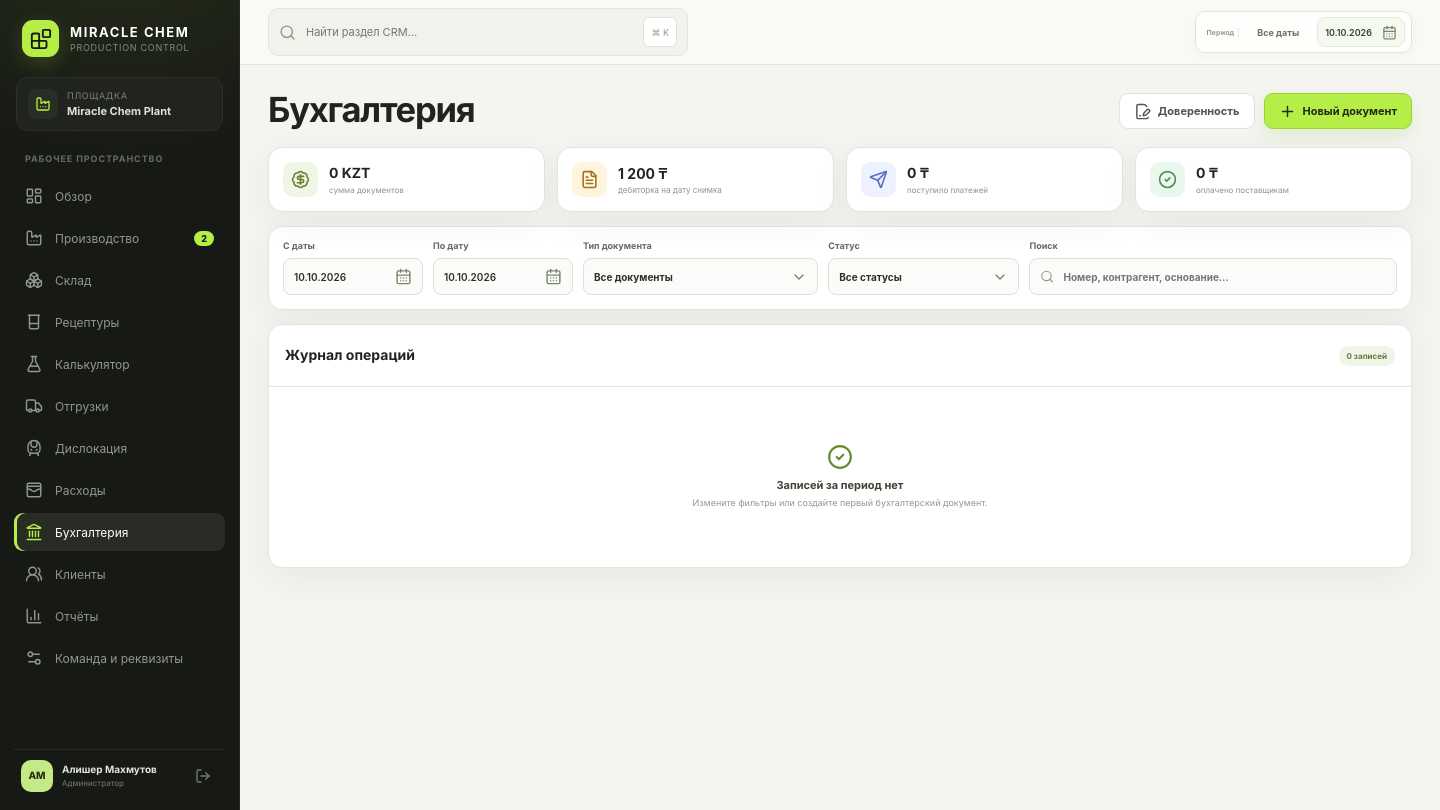
Test: Miracle Chem app shell › lists imported payments with accounting documents and keeps their details read-only
The width and height of the screenshot is (1440, 810).
Expected: the heading "Бухгалтерия" is shown, 268,93 -> 475,129
What coordinates should you click on to do the following:
click the button "Все даты"
I would click on:
 (1278, 32)
Its box is 1247,17 -> 1309,47.
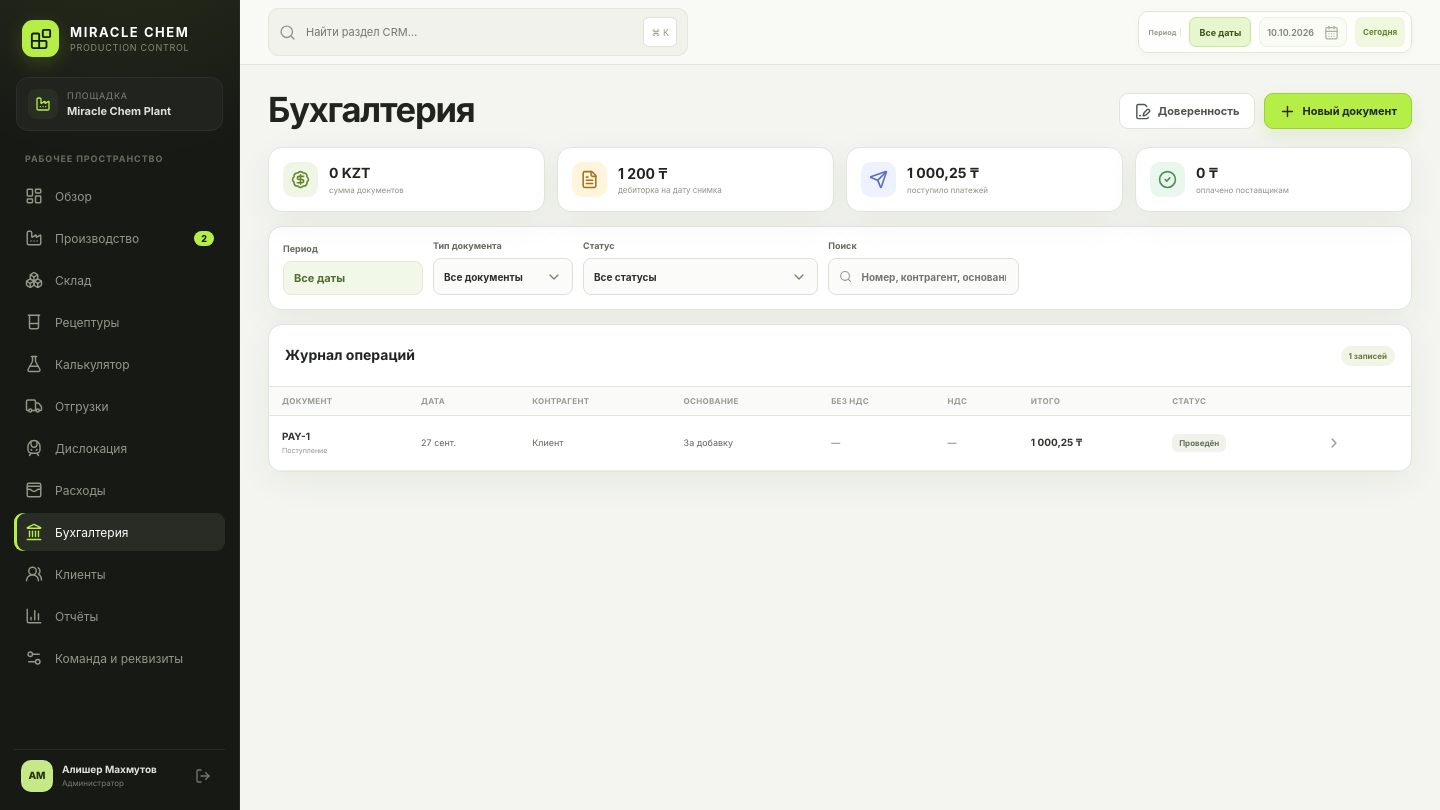
Expected: the heading "Журнал операций" is shown, 285,347 -> 415,364
Expected: the text "PAY-1" is shown, 282,431 -> 310,443
What coordinates should you click on to do the following:
click the button named "Открыть платёж PAY-1"
I would click on:
 (1334, 443)
Its box is 1318,427 -> 1350,459.
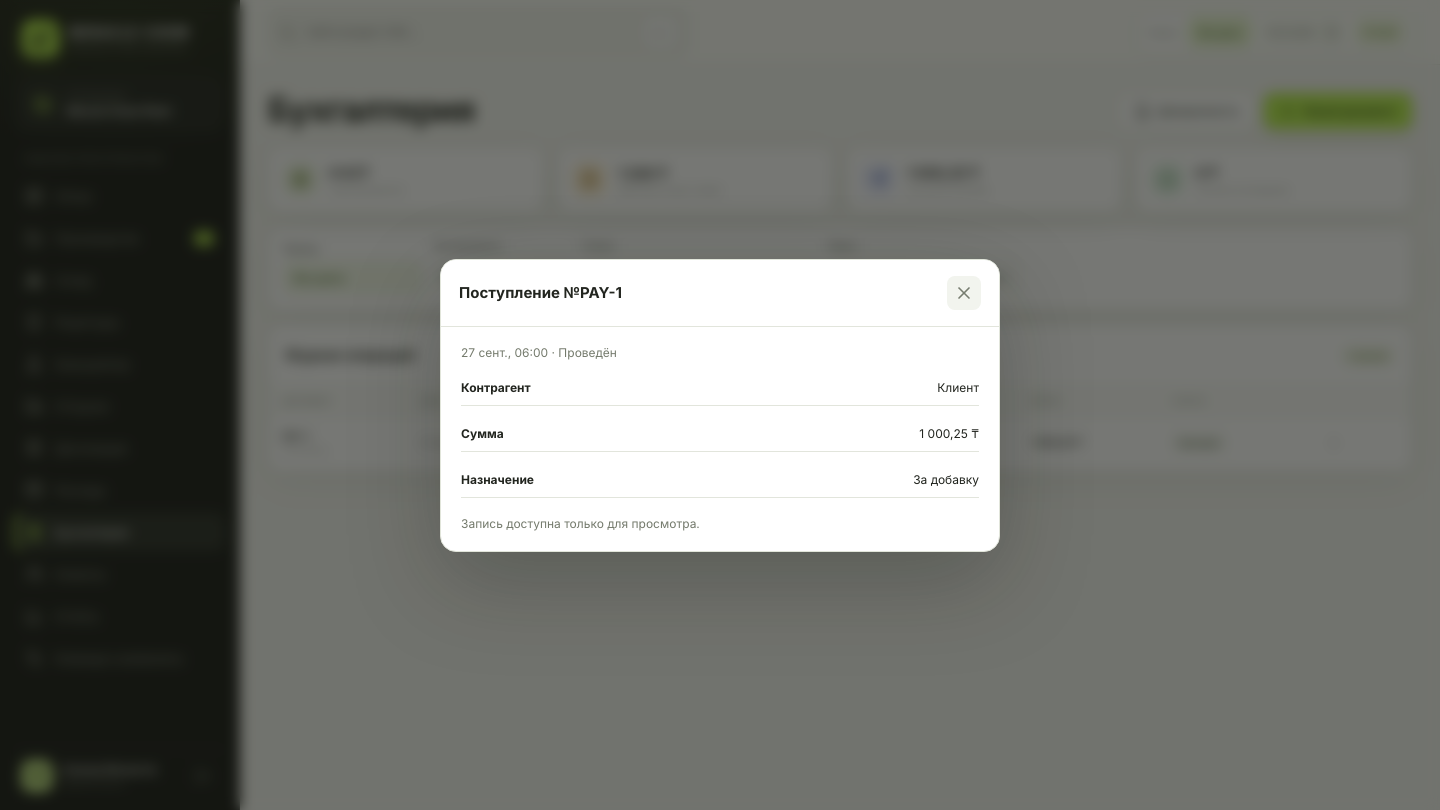
Expected: the text "За добавку" is shown, 913,472 -> 979,486
Expected: the text "Запись доступна только для просмотра." is shown, 461,516 -> 700,530
